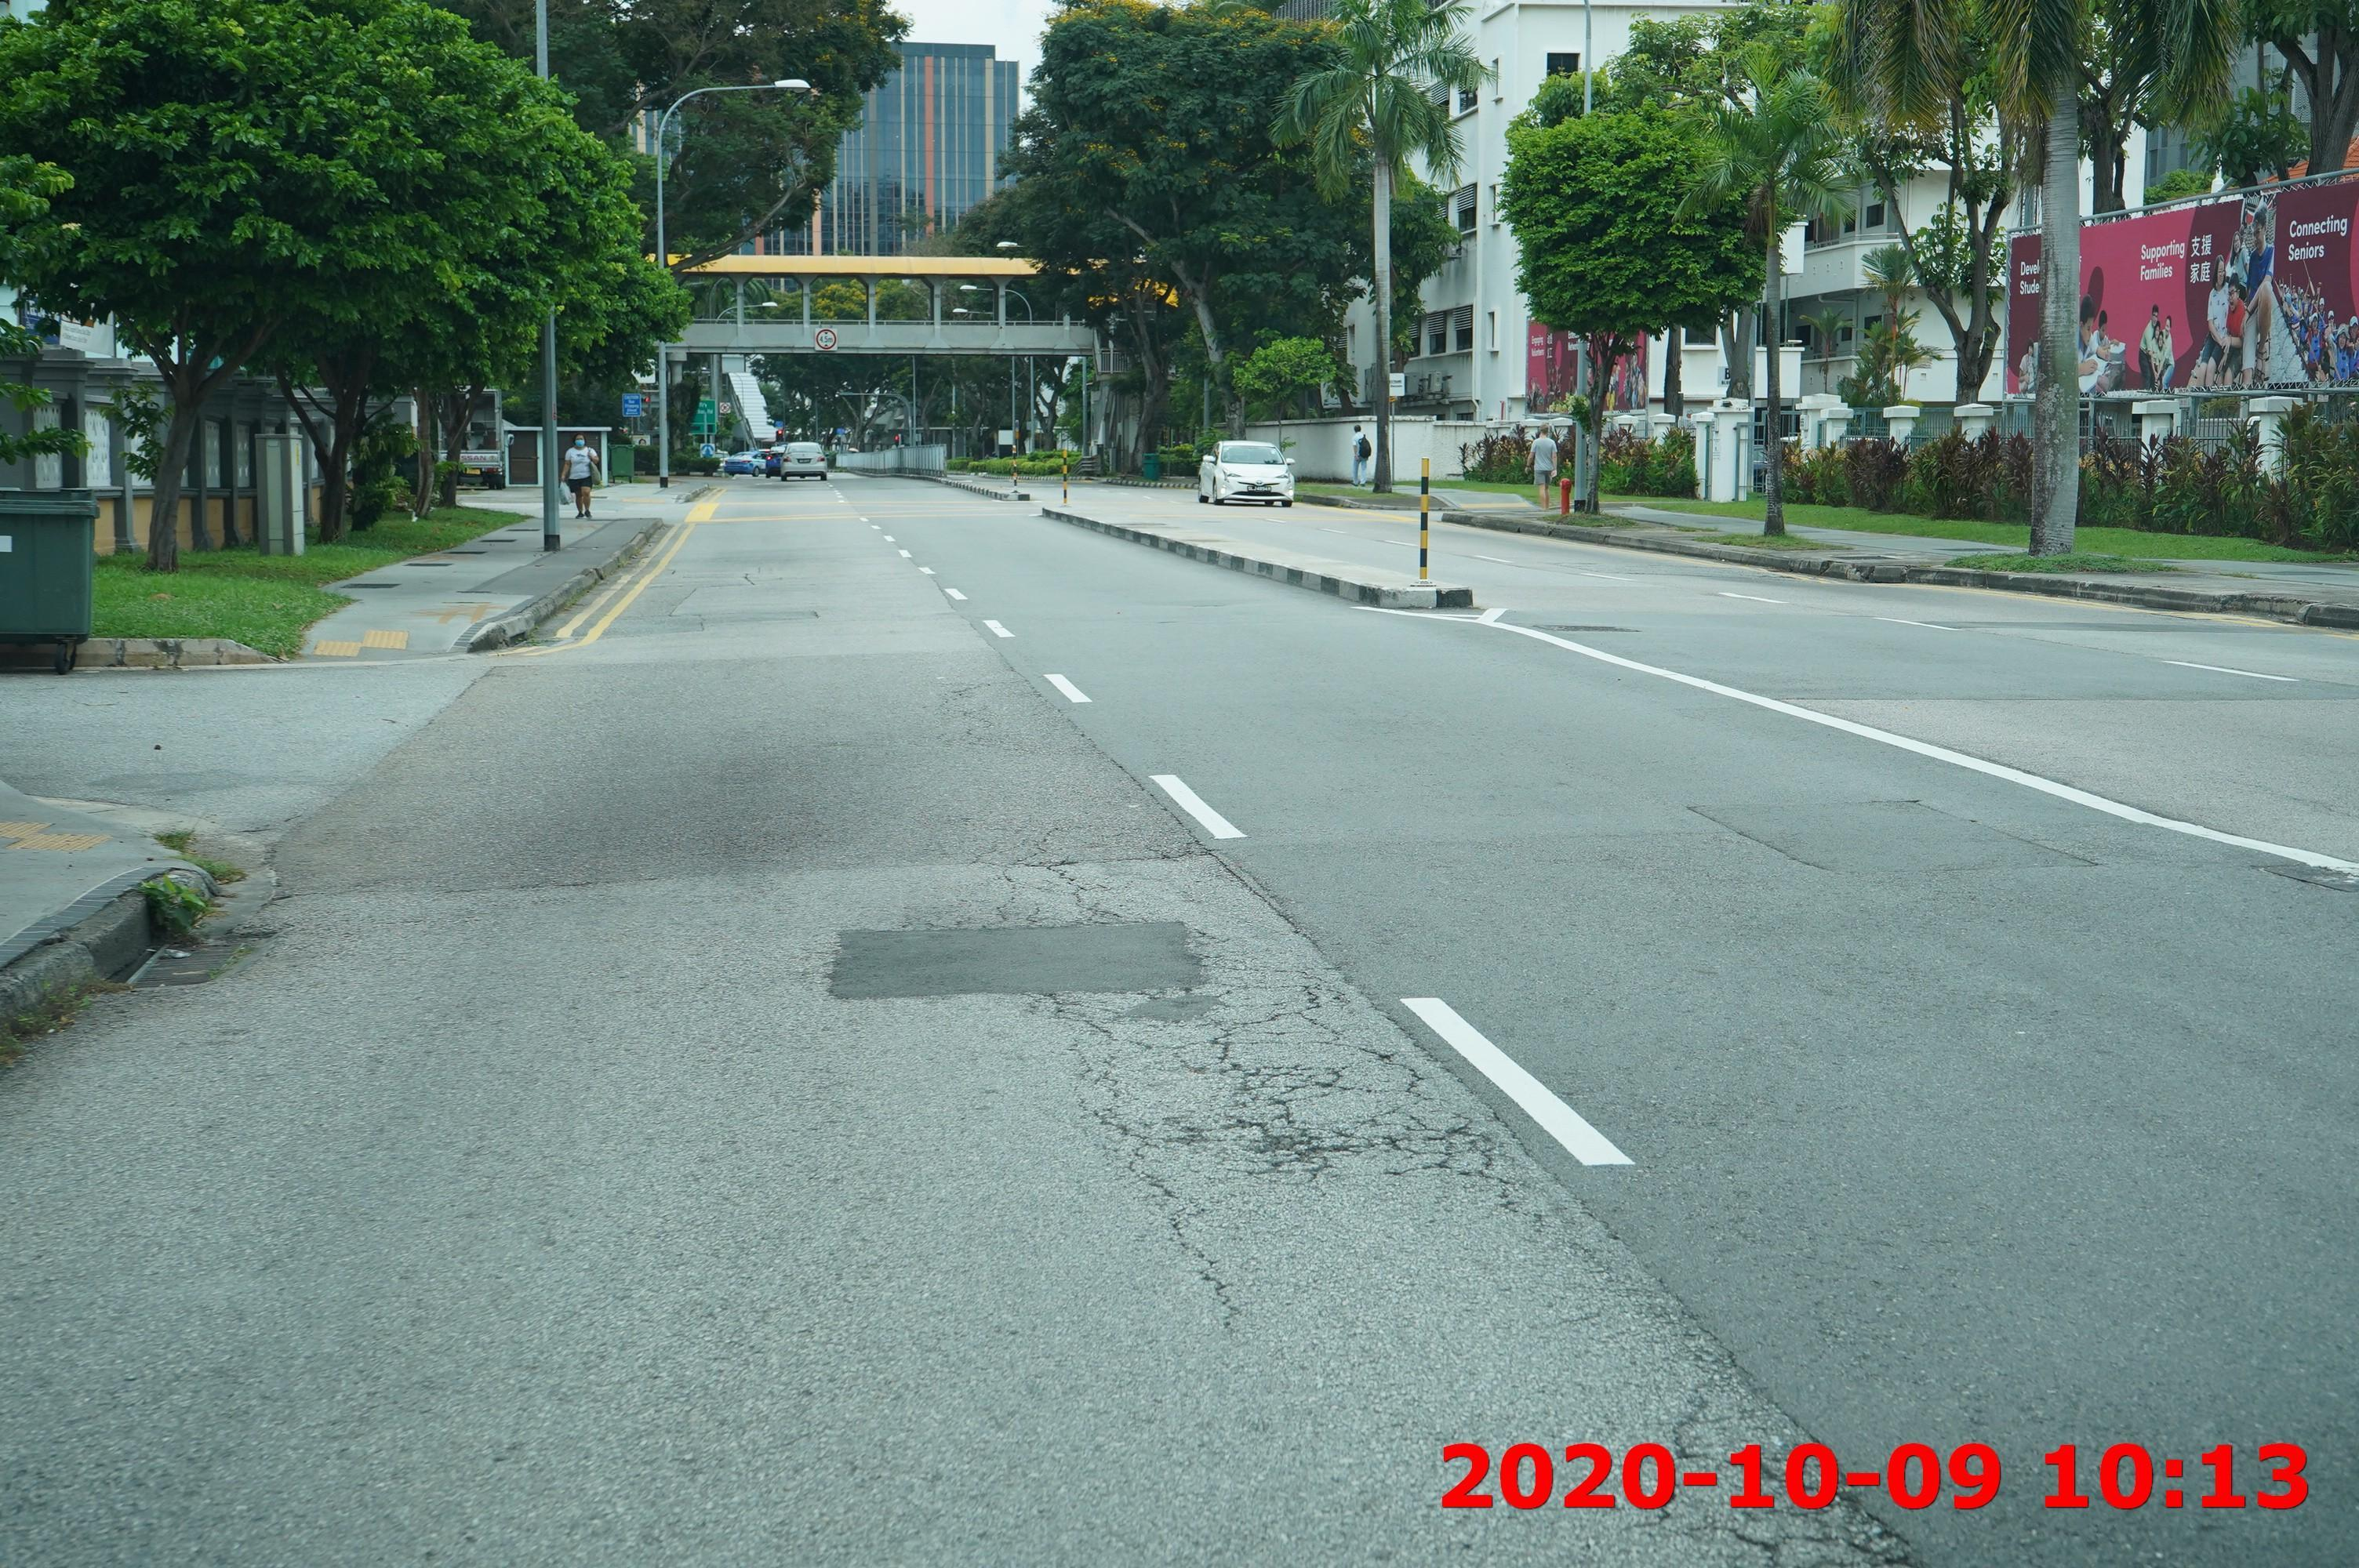alligator crack: (992, 978, 1547, 1202)
